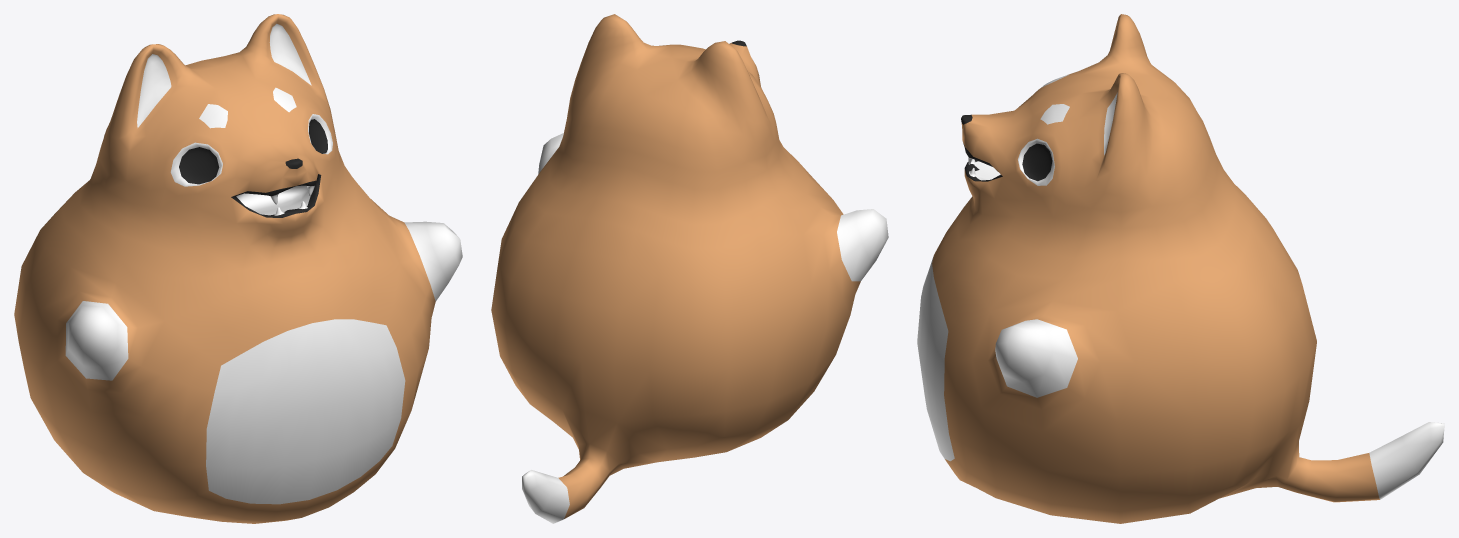
Rendered from dog.glb.
The picture shows the model from 3 angles, left to right: view 1: azimuth 30°, elevation 25°; view 2: azimuth 150°, elevation 25°; view 3: azimuth 270°, elevation 25°; orthographic projection. The views are drawn at different scales.
Parts seen in each view (by area): view 1: Cube; view 2: Cube; view 3: Cube.
Part boxes in pixels (x1,y1,x2,y2): Cube: (14,14,462,523); Cube: (491,14,888,523); Cube: (917,14,1444,523).
Size of the model in its own units: 0.3227 by 0.3742 by 0.3888.
